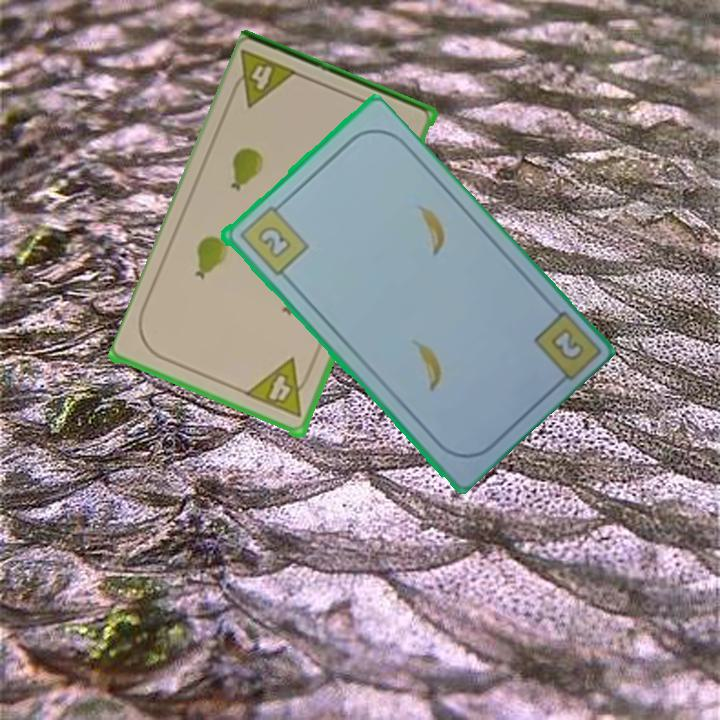2b: (235, 198, 311, 279), (546, 324, 587, 364)
4p: (225, 46, 303, 112), (243, 356, 316, 421)
